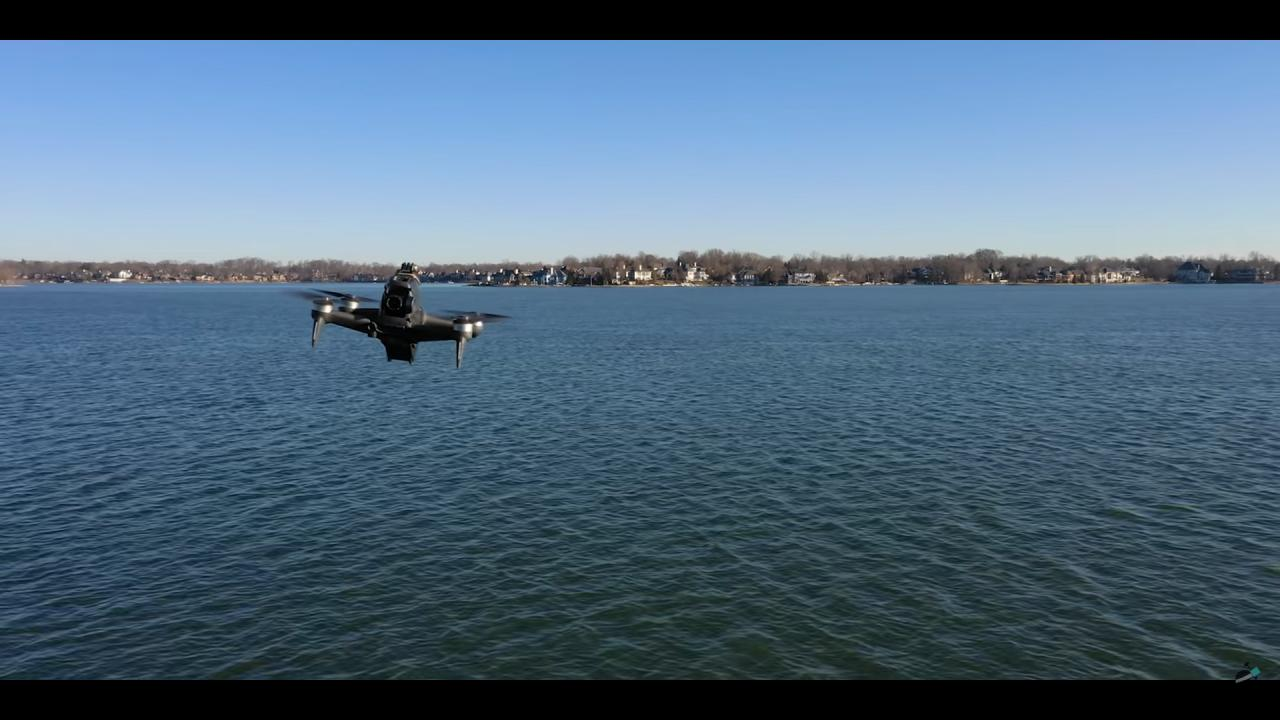Drone: (278, 264, 518, 380)
